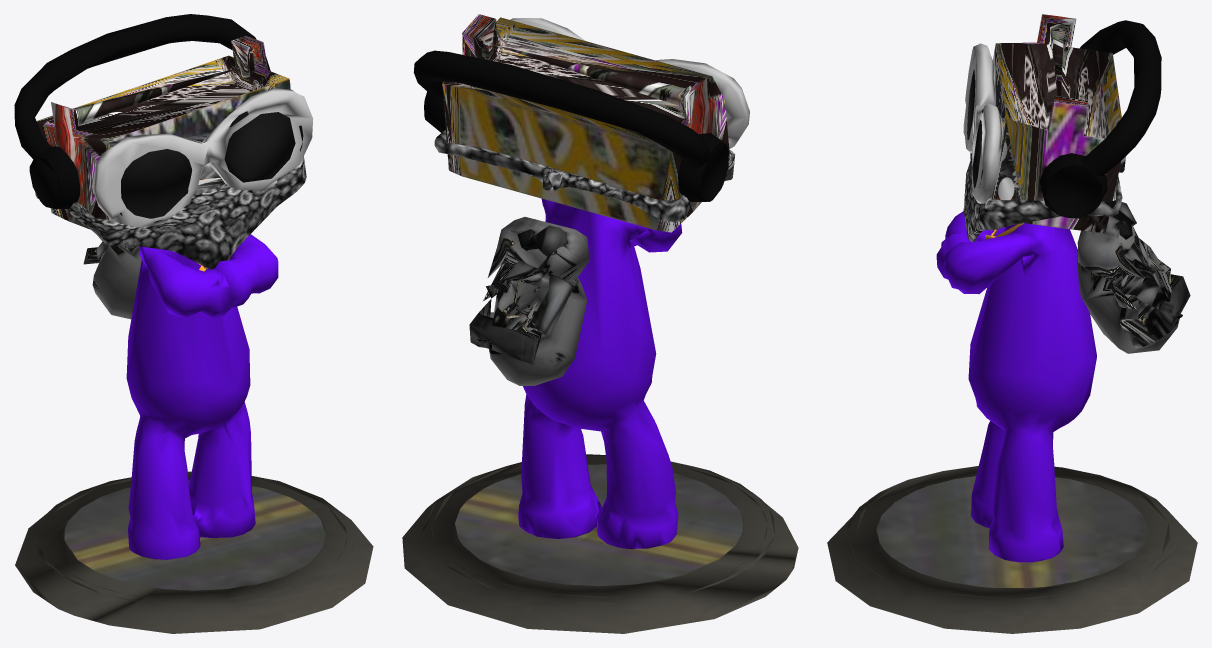
The picture shows the model from 3 angles, left to right: view 1: azimuth 30°, elevation 25°; view 2: azimuth 150°, elevation 25°; view 3: azimuth 270°, elevation 25°; orthographic projection. The views are drawn at different scales.
Bounding box in the file's own units: 1.45 × 2.14 × 1.43.
Materials: 11 (6 with a texture image).
